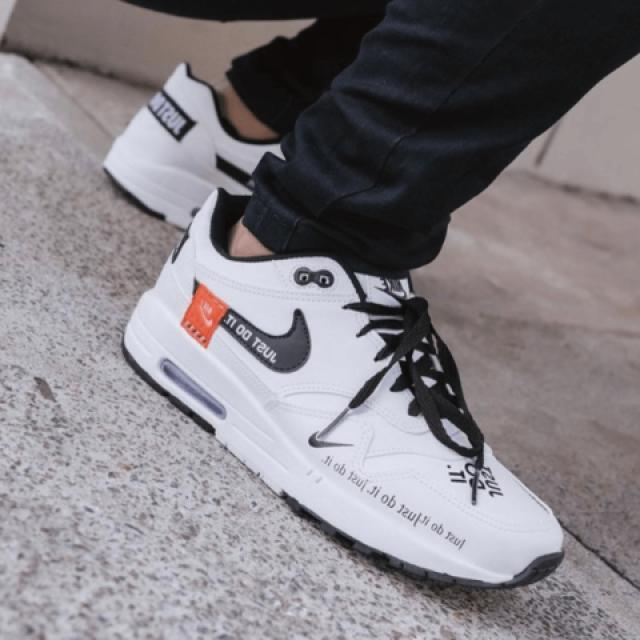nike: (180, 280, 314, 373), (298, 429, 348, 456)
